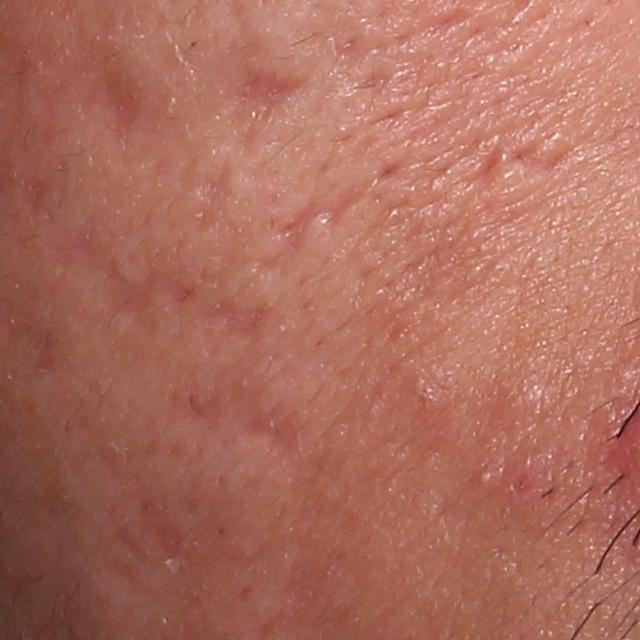atrophic_scar: (97, 471, 249, 630), (66, 259, 264, 355), (175, 364, 316, 454), (251, 174, 371, 272), (281, 467, 355, 613), (75, 46, 143, 155), (470, 136, 578, 202), (227, 70, 293, 120), (402, 10, 479, 37), (194, 159, 226, 223)
